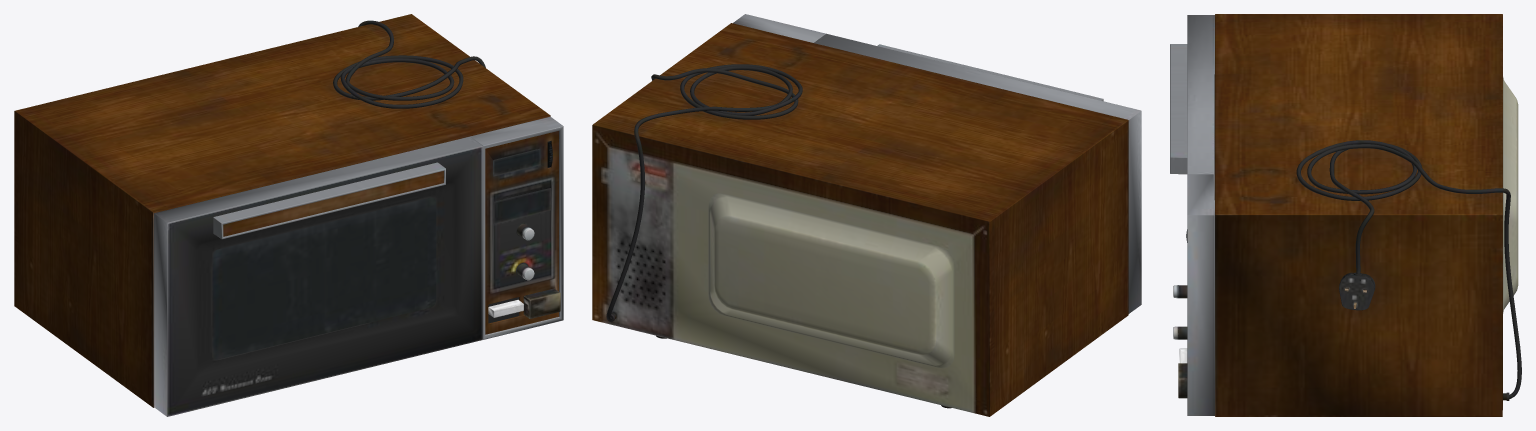
Rendered from microwave.glb.
3 views of the same model, side by side, from view 1: azimuth 30°, elevation 25°; view 2: azimuth 150°, elevation 25°; view 3: azimuth 270°, elevation 25° (orthographic). The views are drawn at different scales.
Parts seen in each view (by area): view 1: vintage_microwave; view 2: vintage_microwave; view 3: vintage_microwave.
Boxes of the visible parts, left/top/right/bottom form: vintage_microwave: left=14, top=14, right=563, bottom=416; vintage_microwave: left=592, top=14, right=1141, bottom=416; vintage_microwave: left=1170, top=14, right=1521, bottom=416.
Size of the model in its own units: 1.07 by 0.5258 by 0.7456.
Materials: 2 (2 with a texture image).
